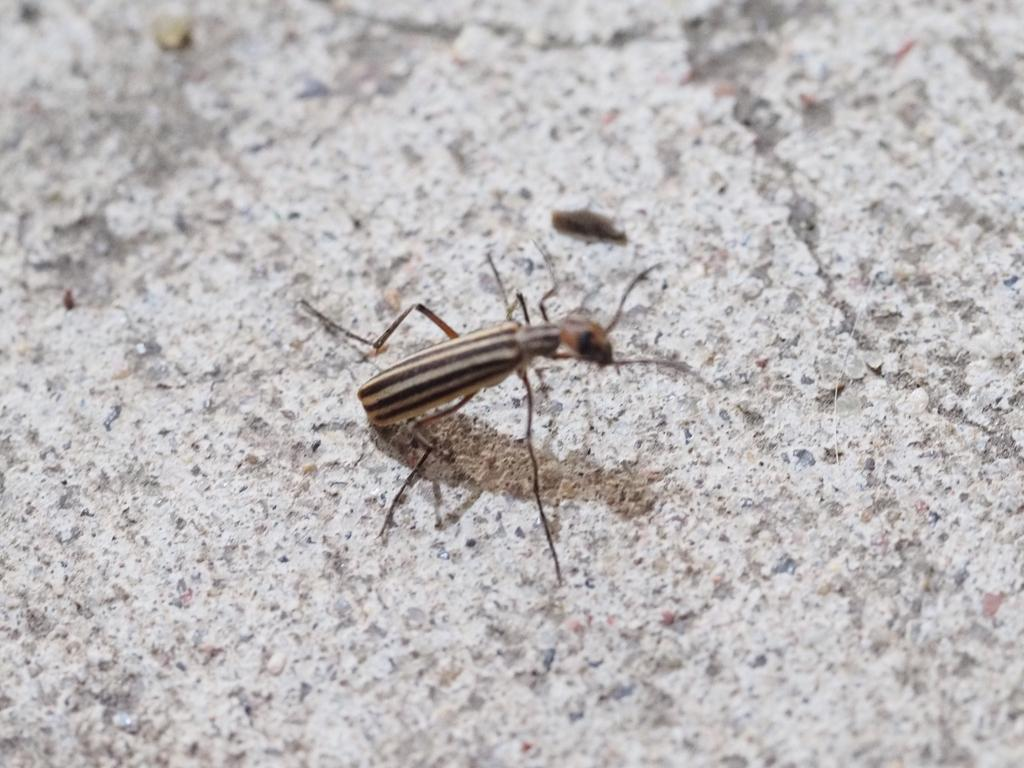blister_beetle: (250, 201, 760, 602)
